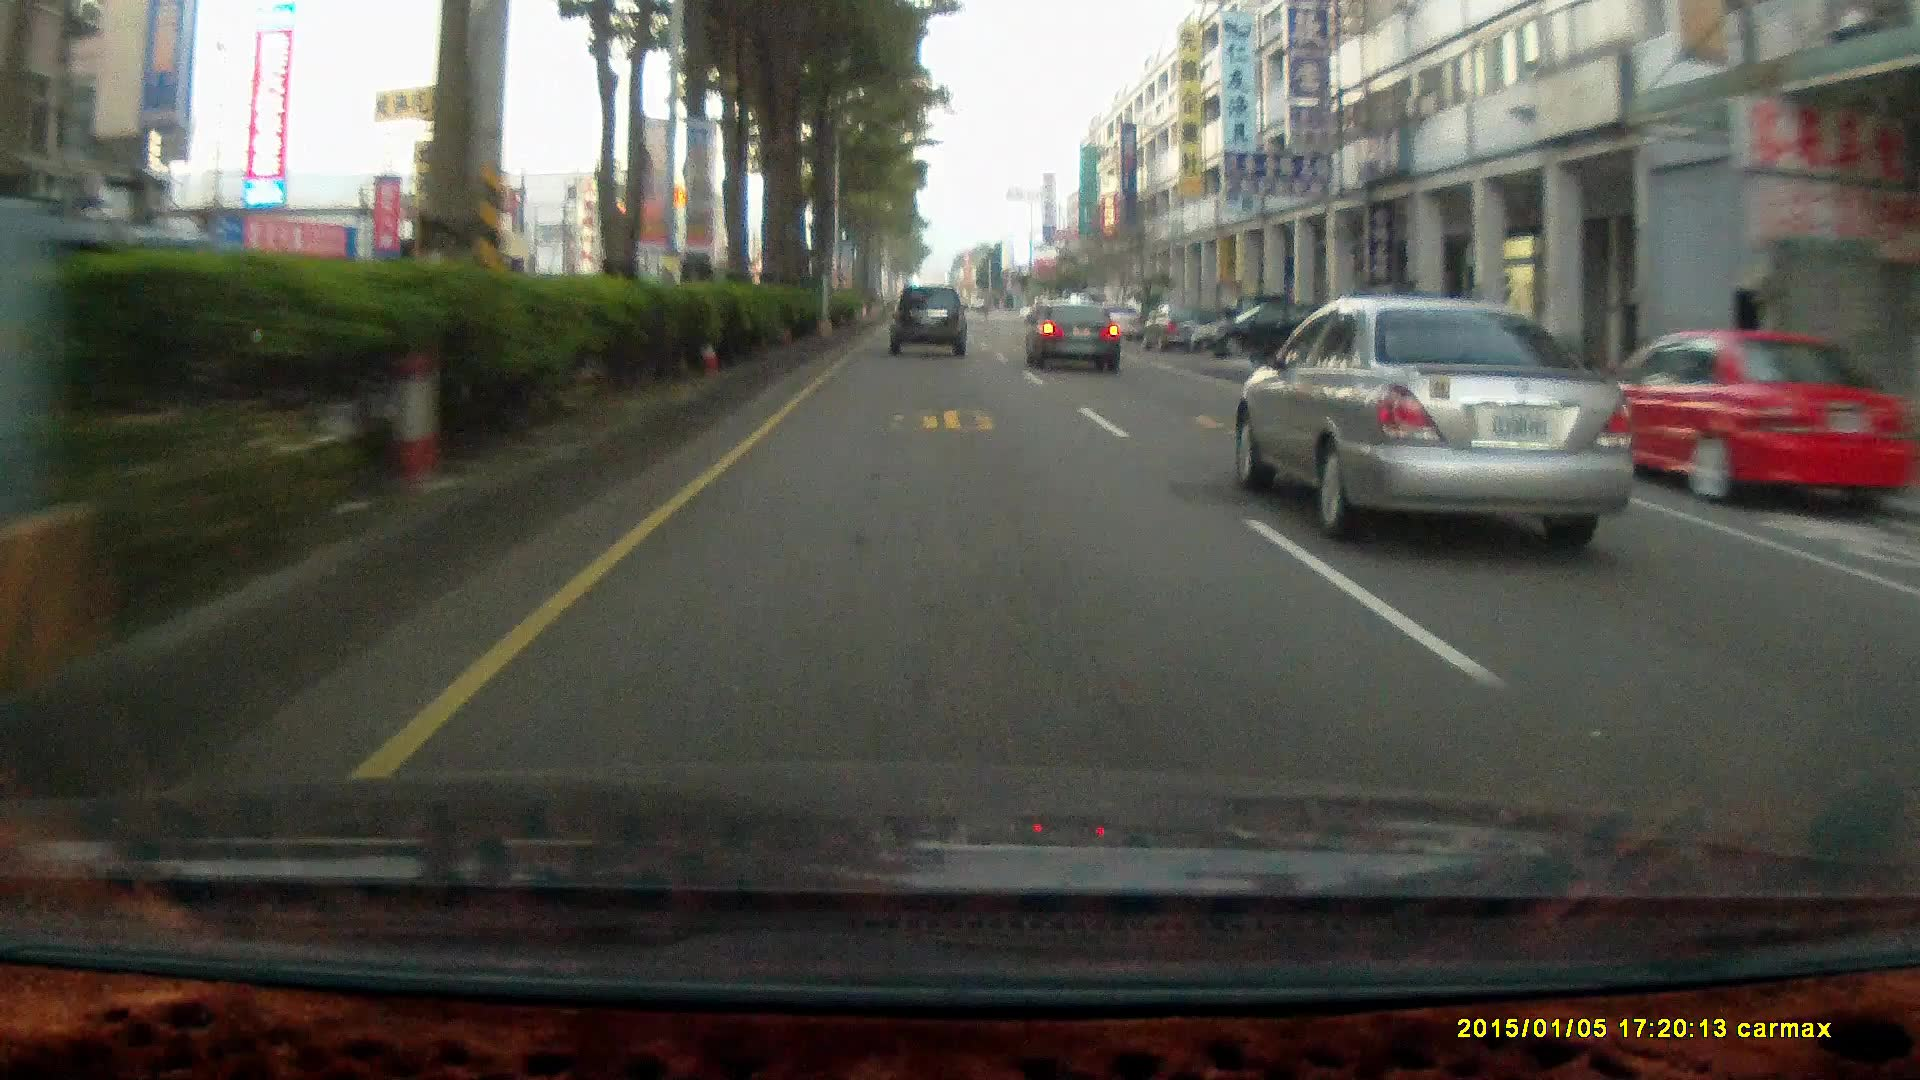vehicle: (1226, 286, 1655, 541), (1592, 324, 1920, 514), (1571, 326, 1905, 510), (1188, 299, 1344, 357), (1025, 301, 1124, 376), (1025, 299, 1120, 375), (887, 284, 971, 360), (886, 284, 969, 355), (1137, 302, 1211, 353)
